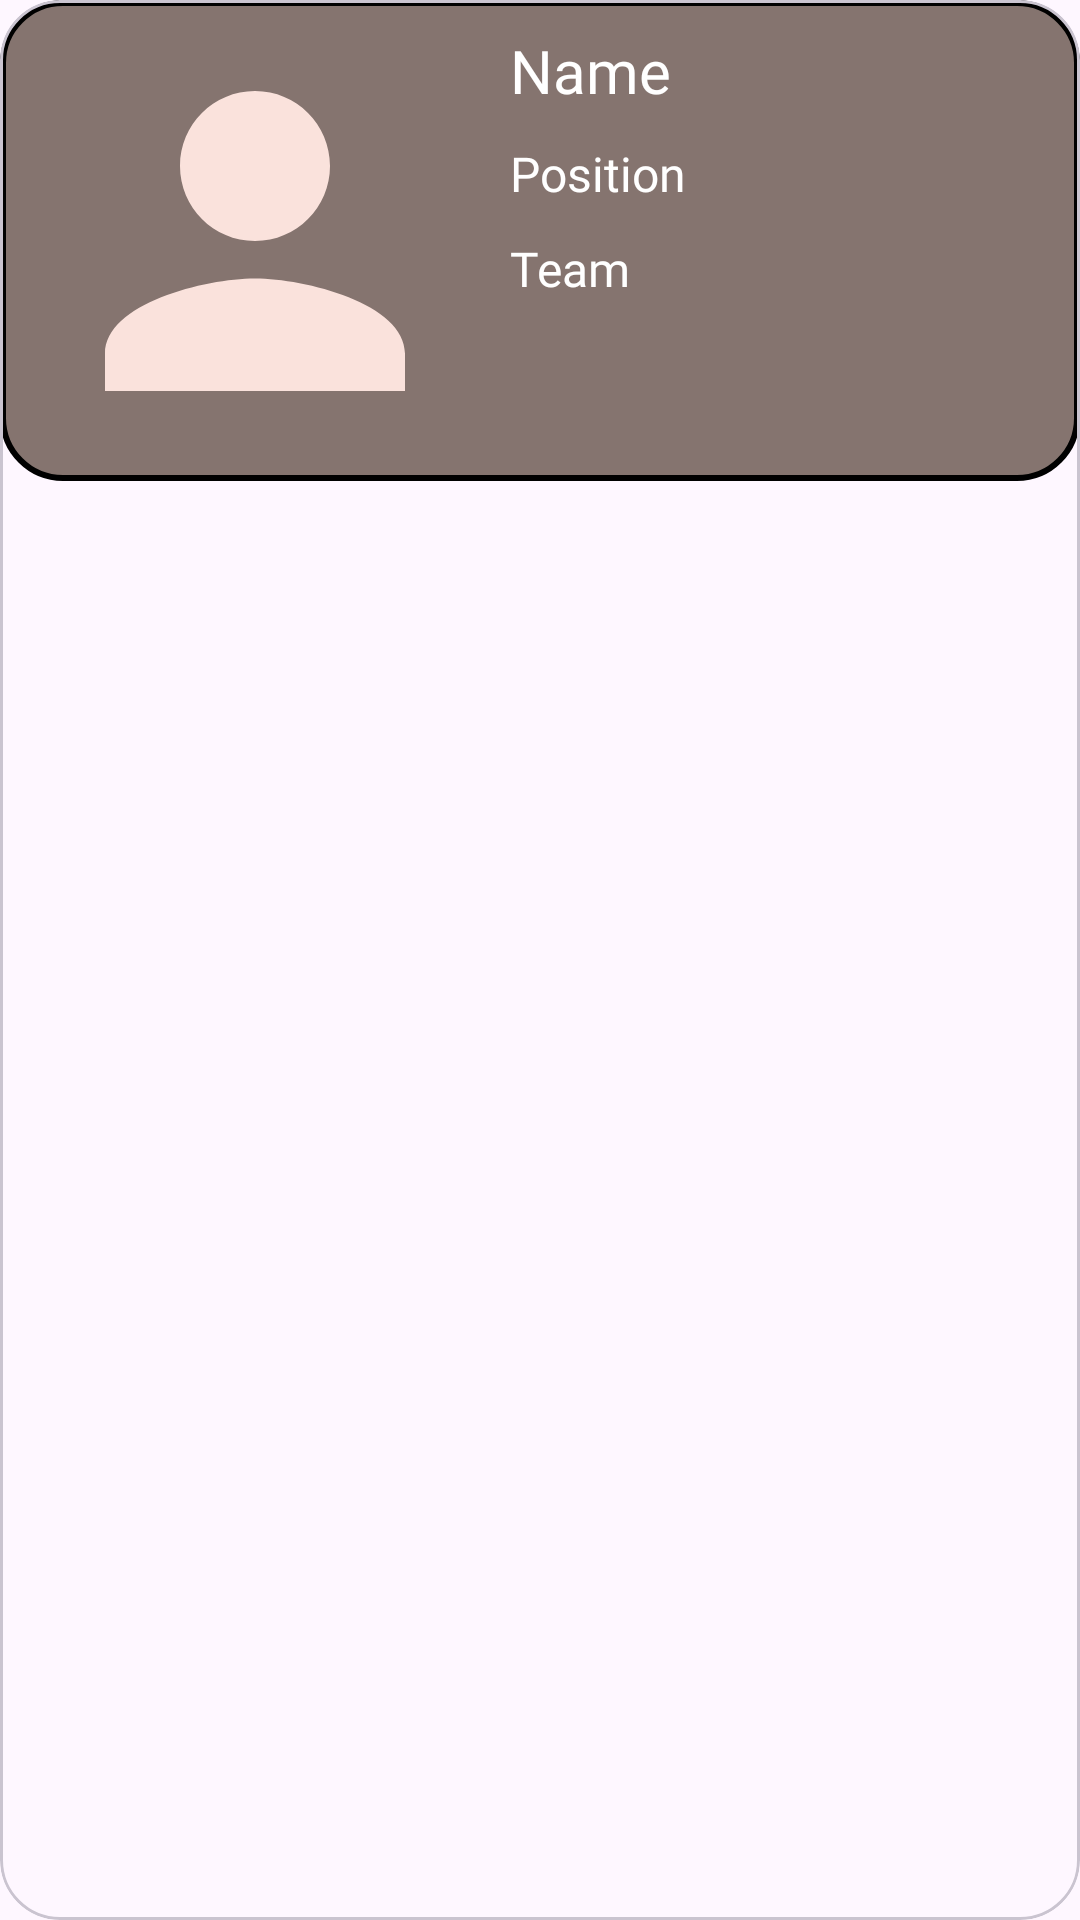

Named icons in this screenshot (1080x1920) and their centers, (x,y):
person: (255,241)
